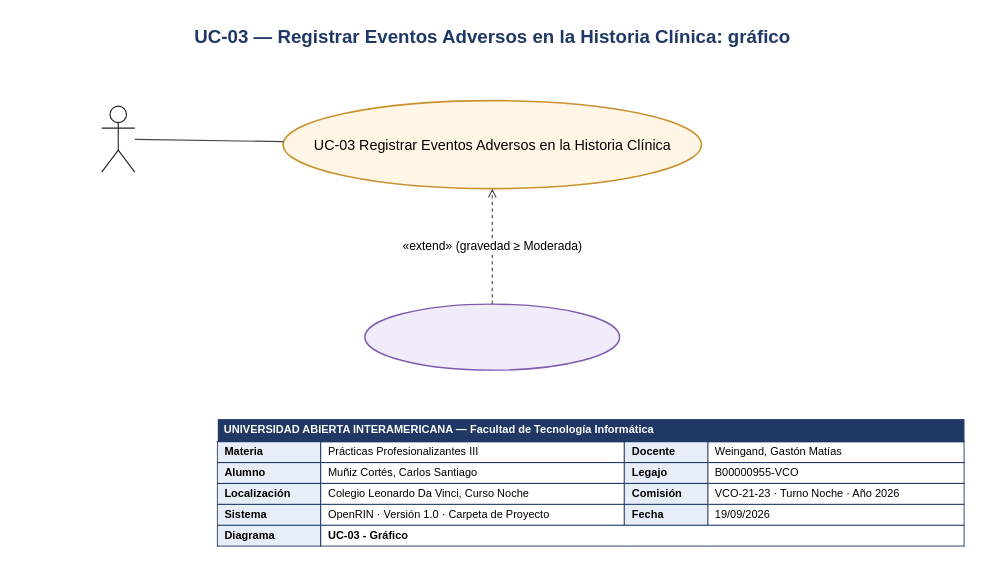
The diagram is 983 pixels wide and 587 high, and some of its shapes have lost their labels. Here are the shapes that lost their labels. From the top down, the centre of each, then its label:
At pixel 118 138: "Médico hematólogo".
At pixel 492 336: "Destacar evento Moderado o Grave".
